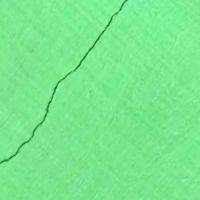crack: (2, 1, 143, 168)
